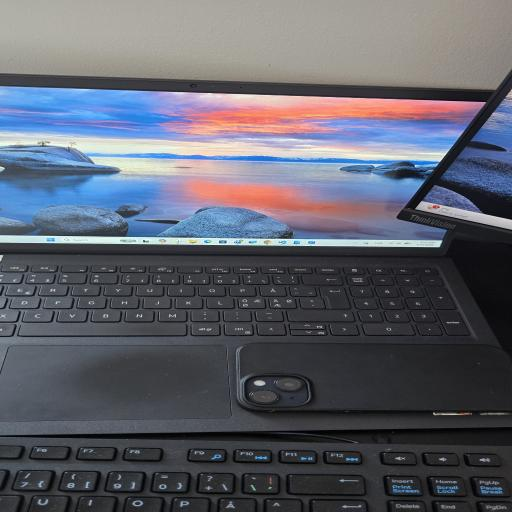phone: (241, 349, 512, 424)
